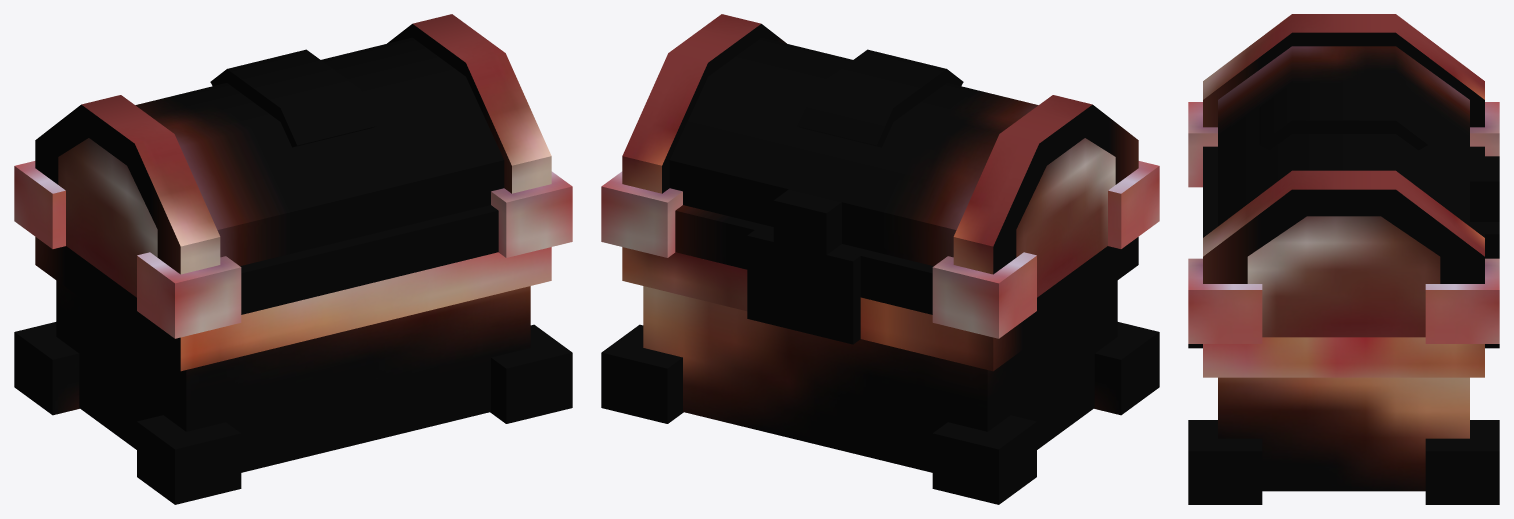
Rendered from jade_rabbit_box.glb.
3 views of the same model, side by side, from view 1: azimuth 30°, elevation 25°; view 2: azimuth 150°, elevation 25°; view 3: azimuth 270°, elevation 25° (orthographic). The views are drawn at different scales.
Parts seen in each view (by area): view 1: jade_rabbit_box; view 2: jade_rabbit_box; view 3: jade_rabbit_box.
Part boxes in pixels (x1,y1,x2,y2): jade_rabbit_box: (14, 14, 572, 504); jade_rabbit_box: (601, 14, 1159, 504); jade_rabbit_box: (1188, 14, 1499, 504).
Size of the model in its own units: 9.96 by 7.64 by 6.97.
1 material, 1 textured.
